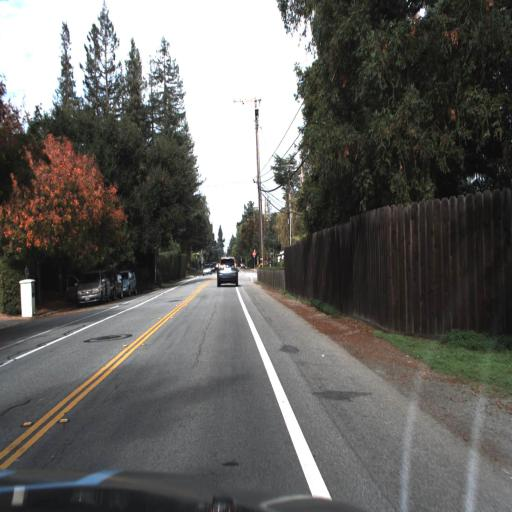car: (73, 267, 108, 308), (215, 253, 242, 291), (119, 265, 141, 300), (104, 270, 125, 303), (199, 262, 212, 282)
